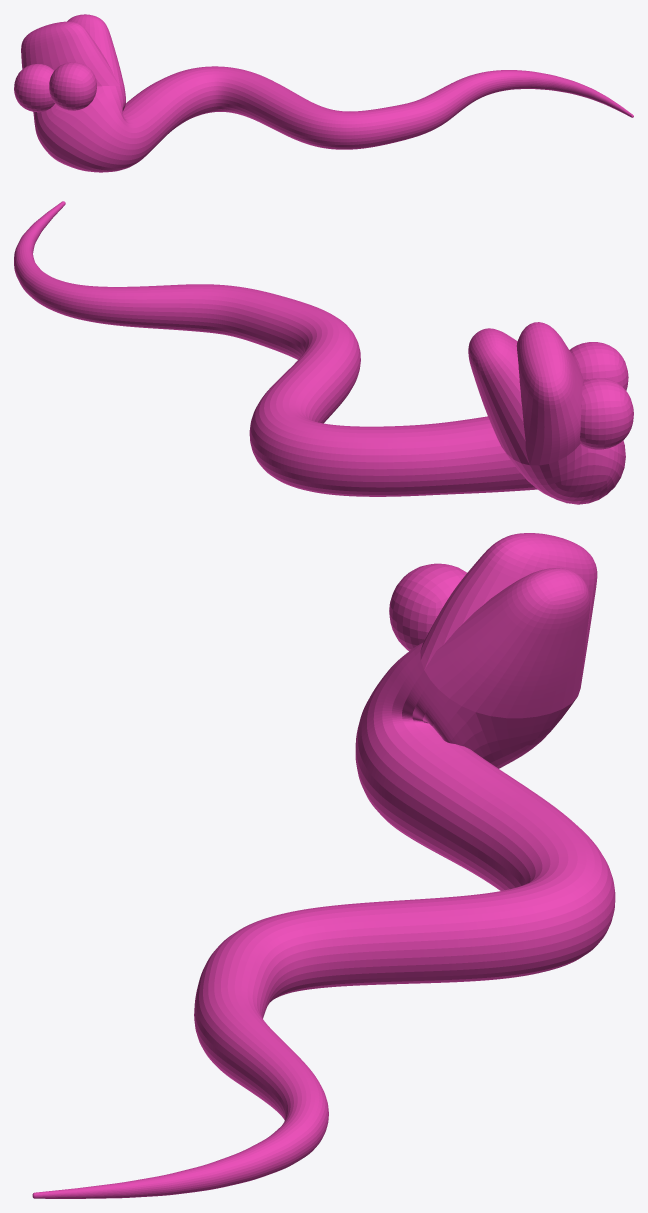
Rendered from snake5.glb.
3 views of the same model, one above another, from view 1: azimuth 30°, elevation 25°; view 2: azimuth 150°, elevation 25°; view 3: azimuth 270°, elevation 25° (orthographic). The views are drawn at different scales.
Parts seen in each view (by area): view 1: Cube.009; view 2: Cube.009; view 3: Cube.009.
Part boxes in pixels (x1,y1,x2,y2): Cube.009: (14, 14, 633, 172); Cube.009: (14, 201, 633, 504); Cube.009: (32, 533, 615, 1198).
Bounding box in the file's own units: 0.738 × 0.1883 × 0.3722.
